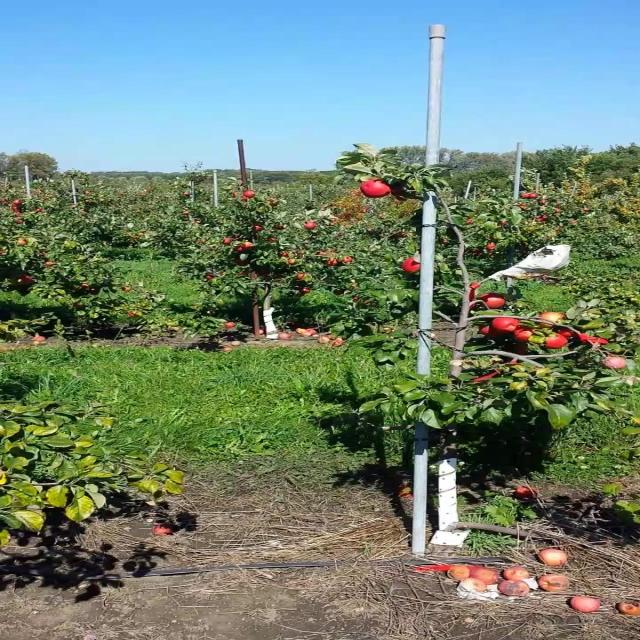apple: (362, 180, 391, 200), (511, 328, 539, 342), (604, 356, 626, 371), (540, 312, 569, 323), (497, 320, 523, 332), (483, 296, 507, 309), (547, 336, 569, 349), (511, 344, 532, 356), (404, 260, 421, 272), (561, 328, 580, 338), (582, 332, 597, 343), (483, 328, 503, 336), (476, 376, 492, 384), (596, 340, 612, 347)
